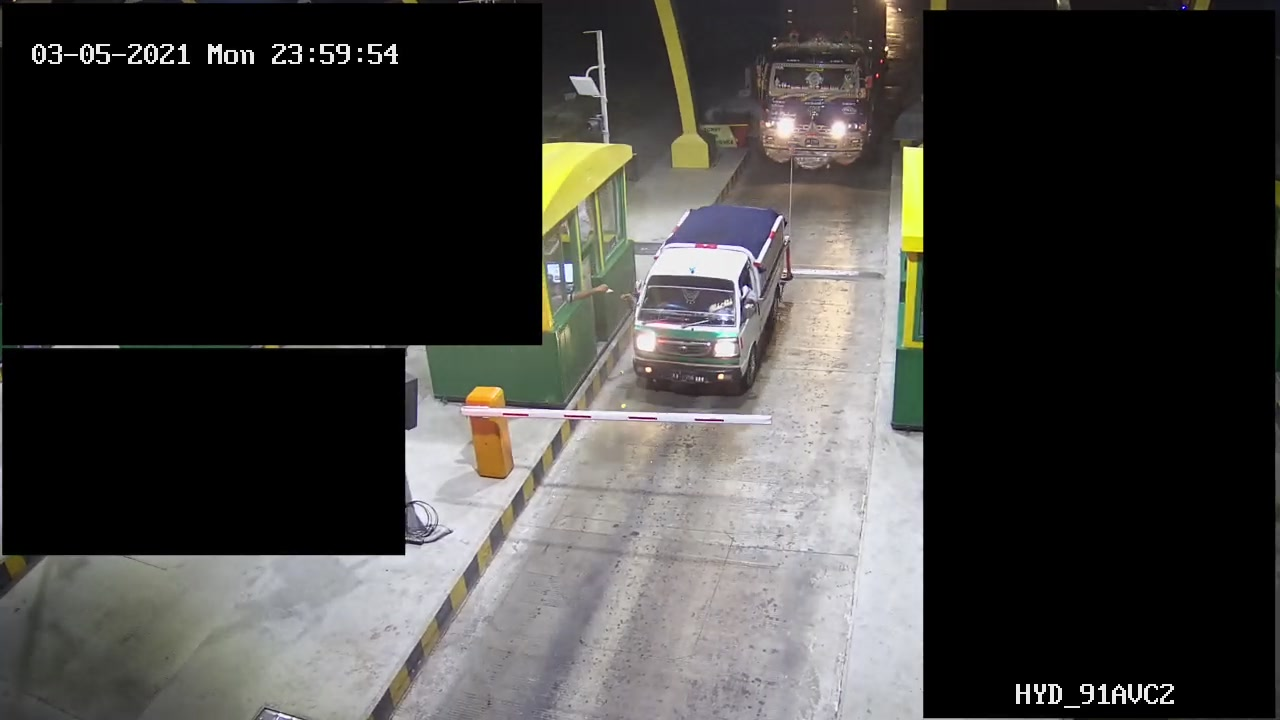F1: (623, 197, 796, 401)
